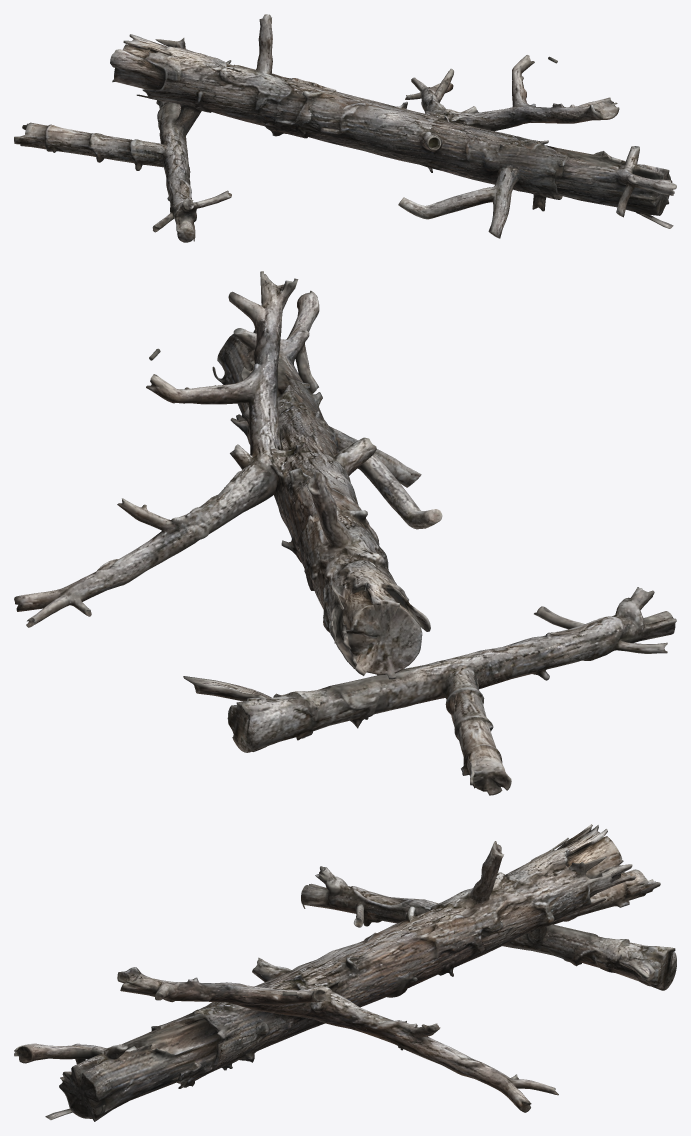
The model's file is fallen_log.glb.
3 renders of one model, top to bottom at view 1: azimuth 30°, elevation 25°; view 2: azimuth 150°, elevation 25°; view 3: azimuth 270°, elevation 25°, orthographic. The views are drawn at different scales.
Visible parts, largest first — view 1: tripo_node_cf1df8f2-b2ca-4aa6-8e22-93ae2146dfd5; view 2: tripo_node_cf1df8f2-b2ca-4aa6-8e22-93ae2146dfd5; view 3: tripo_node_cf1df8f2-b2ca-4aa6-8e22-93ae2146dfd5.
Part boxes in pixels (bbox=[...]): tripo_node_cf1df8f2-b2ca-4aa6-8e22-93ae2146dfd5: bbox=[14, 14, 676, 242]; tripo_node_cf1df8f2-b2ca-4aa6-8e22-93ae2146dfd5: bbox=[14, 271, 676, 795]; tripo_node_cf1df8f2-b2ca-4aa6-8e22-93ae2146dfd5: bbox=[14, 824, 676, 1121].
Size of the model in its own units: 0.8892 by 0.271 by 0.9995.
Materials: 1 (1 with a texture image).
